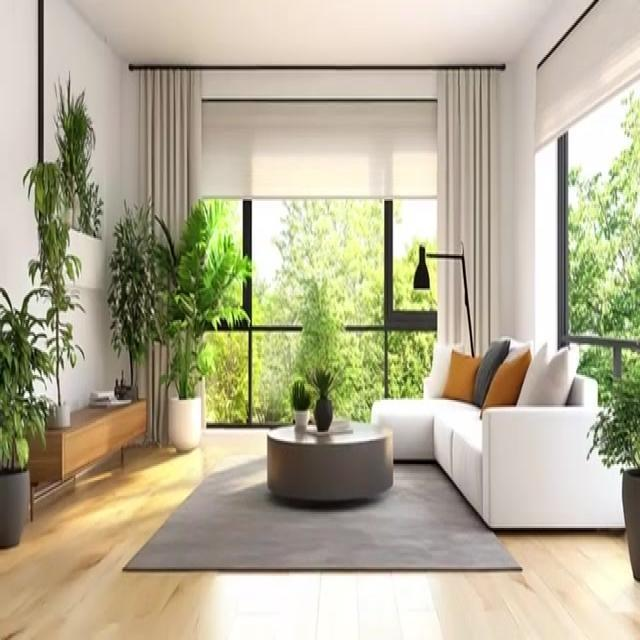obstacle: (369, 331, 627, 528), (26, 395, 147, 521), (266, 418, 393, 503)
